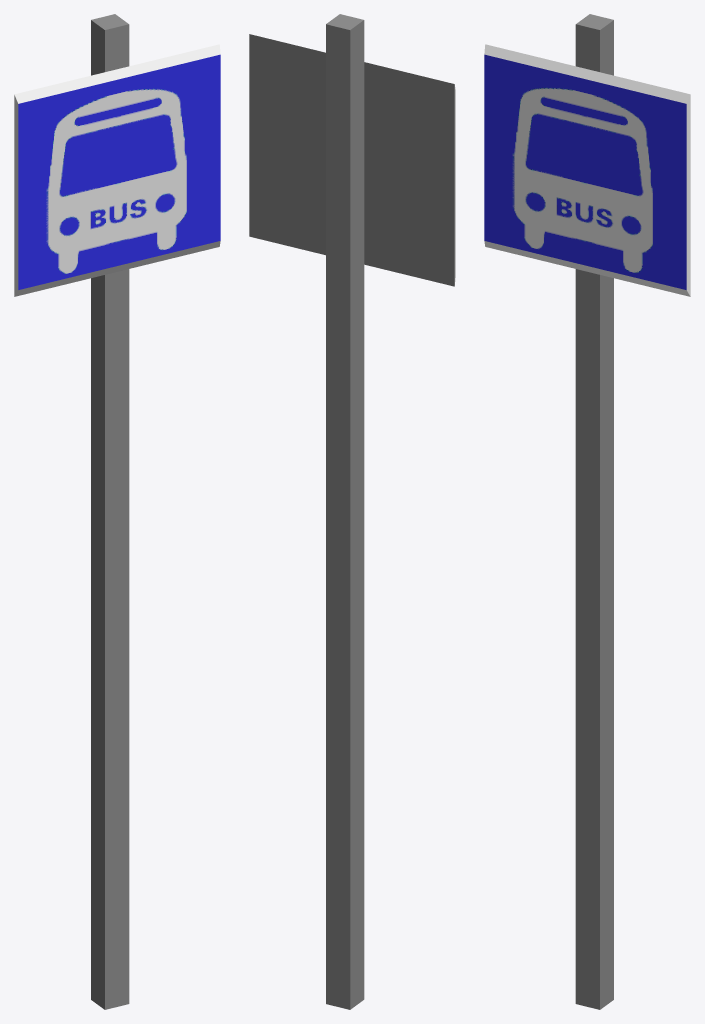
Rendered from Placa.glb.
The picture shows the model from 3 angles, left to right: view 1: azimuth 30°, elevation 25°; view 2: azimuth 150°, elevation 25°; view 3: azimuth 330°, elevation 25°; orthographic projection.
Parts seen in each view (by area): view 1: Sign-convcol; view 2: Sign-convcol; view 3: Sign-convcol.
Boxes of the visible parts, x1,y1,x2,y2 form: Sign-convcol: (14,14,220,1009); Sign-convcol: (249,14,455,1009); Sign-convcol: (484,14,690,1009).
Size of the model in its own units: 0.8361 by 3.81 by 0.1158.
3 materials, 1 textured.
